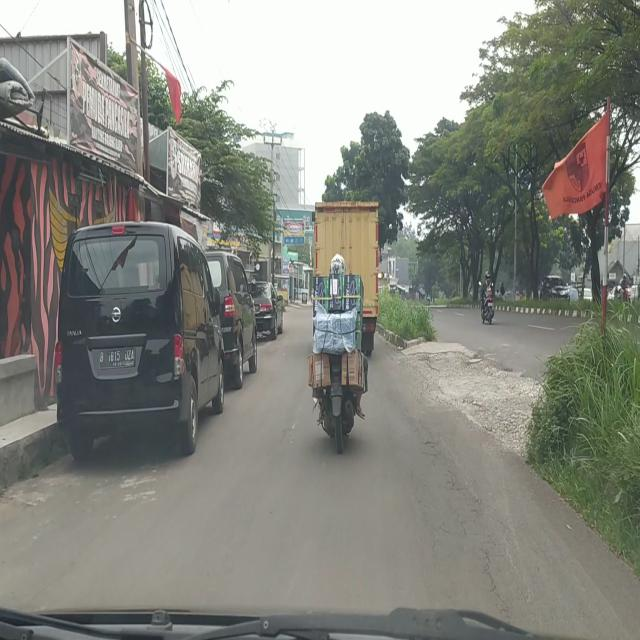Drain Hole: (420, 430, 531, 616)
